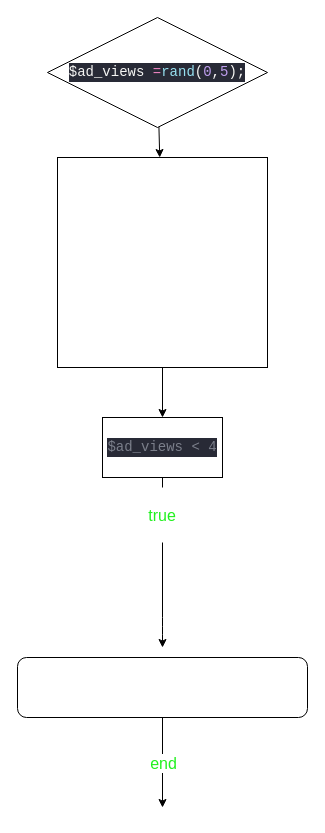
This 325x833 diagram has some shape labels left out. The shapes that lost their labels are listed below. From the top down, each one's centre as x and y in pixels, then its label:
point 162,262: rand ( int $min, int $max): int
point 162,687: print ( " New advertisment text ... " );
